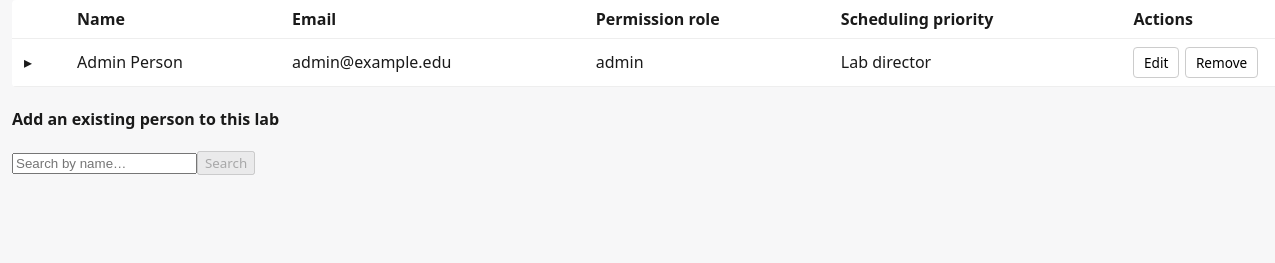
LabMembers create-user-and-add flow › shows "Create new user" only after a search with zero results
Expected: the button "Create new user" is not shown
In the field with placeholder "Search by name…": (104, 164) x1=12 y1=153 x2=197 y2=174, type "Nonexistent Person"
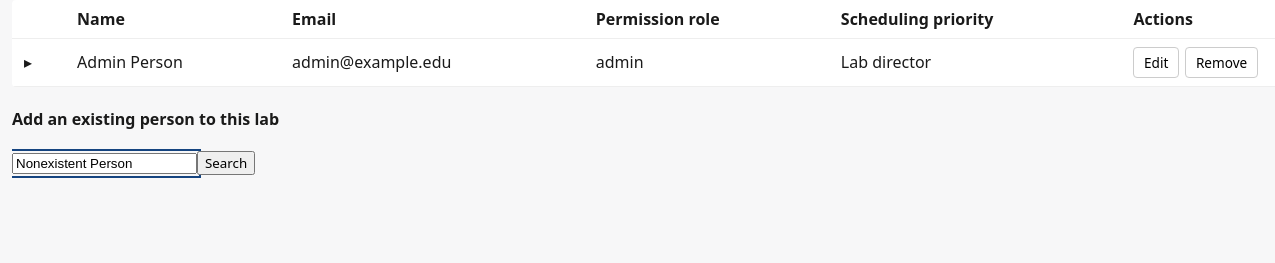
Click the button "Search": (226, 163) x1=197 y1=151 x2=255 y2=175
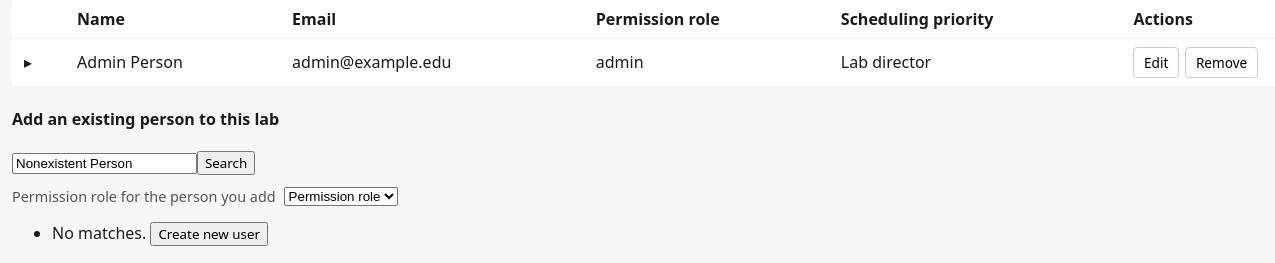
Expected: the list item "No matches." is shown, x1=52 y1=222 x2=146 y2=244
Expected: the button "Create new user" is shown, x1=150 y1=222 x2=268 y2=246
